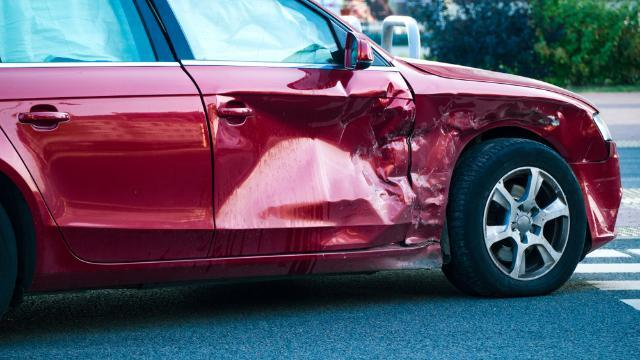dent: (213, 82, 415, 246), (404, 93, 592, 242), (391, 243, 444, 268)
